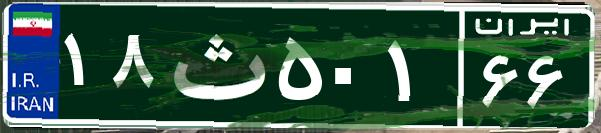0: (330, 28, 385, 110)
1: (385, 28, 445, 110), (57, 26, 110, 107)
5: (273, 28, 330, 110)
6: (475, 38, 525, 113), (525, 38, 570, 115)
8: (110, 28, 158, 105)
ث: (158, 15, 273, 115)
